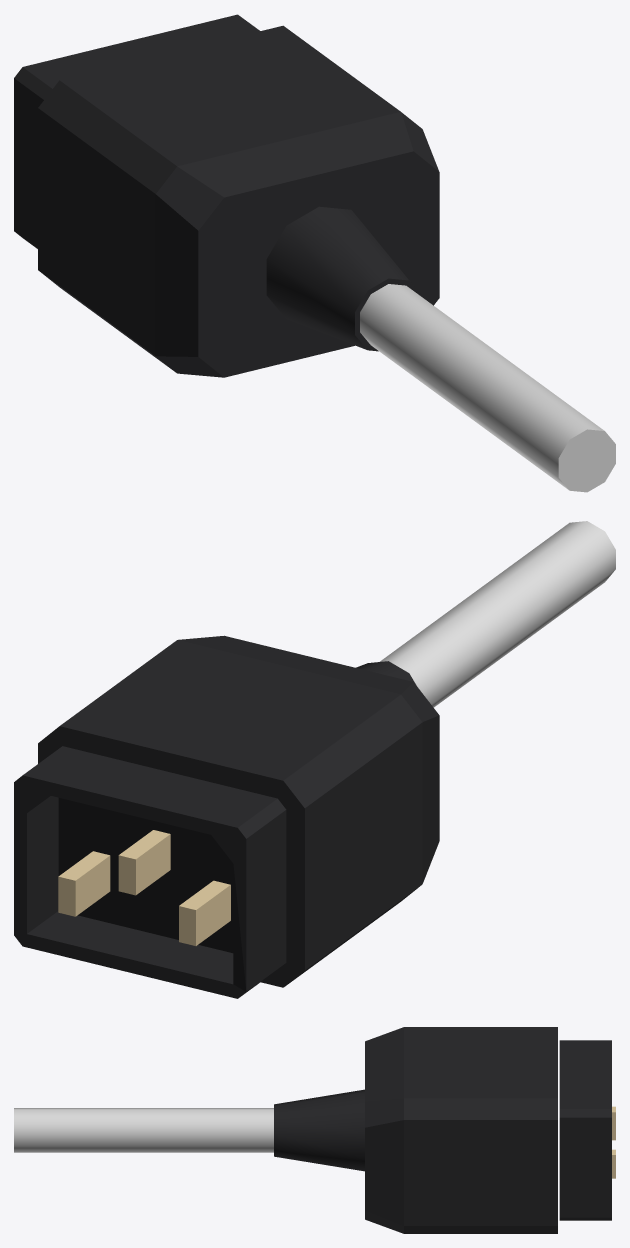
File: IEC-C14.glb
3 views of the same model, one above another, from view 1: azimuth 30°, elevation 25°; view 2: azimuth 150°, elevation 25°; view 3: azimuth 270°, elevation 25° (orthographic). The views are drawn at different scales.
Parts seen in each view (by area): view 1: IEC-C14_Head; view 2: IEC-C14_Head; view 3: IEC-C14_Head.
Boxes of the visible parts, bbox=[...] form: IEC-C14_Head: bbox=[14, 14, 615, 492]; IEC-C14_Head: bbox=[14, 521, 615, 998]; IEC-C14_Head: bbox=[14, 1027, 615, 1233].
Bounding box in the file's own units: 0.031 × 0.023 × 0.0926.
